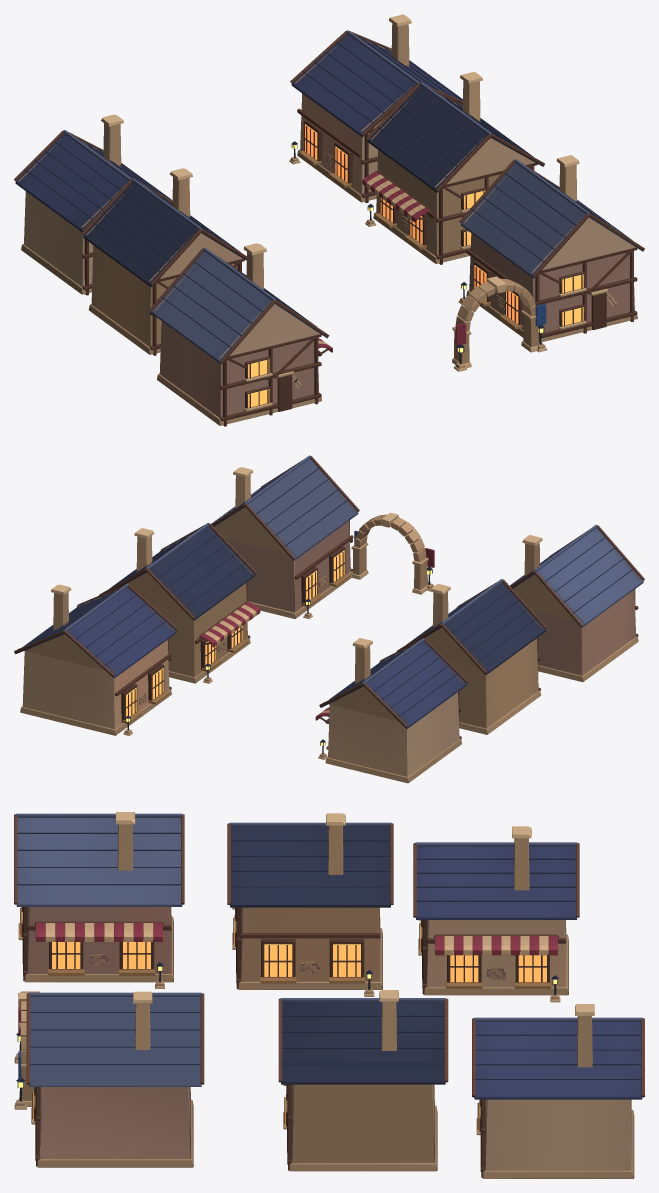
The model's file is village.glb.
The picture shows the model from 3 angles, top to bottom: view 1: azimuth 30°, elevation 25°; view 2: azimuth 150°, elevation 25°; view 3: azimuth 270°, elevation 25°; orthographic projection. The views are drawn at different scales.
Visible parts, largest first — view 1: village; view 2: village; view 3: village.
Part boxes in pixels (left/top/right/bottom): village: left=14, top=14, right=644, bottom=426; village: left=14, top=455, right=644, bottom=783; village: left=14, top=812, right=644, bottom=1178.
Bounding box in the file's own units: 26.68 × 7.95 × 27.49.
